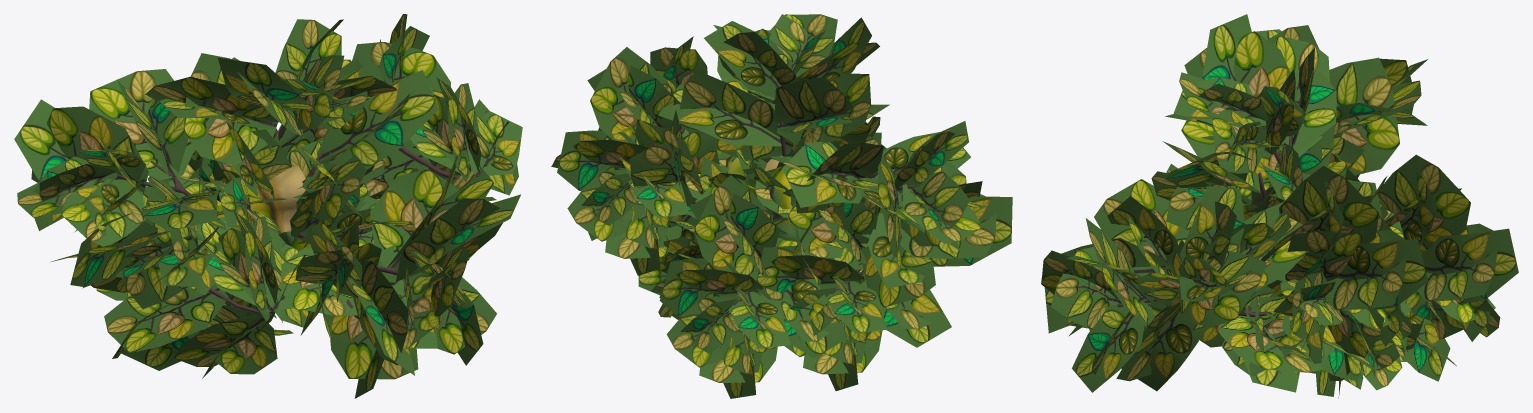
Rendered from shrub.glb.
3 views of the same model, side by side, from view 1: azimuth 30°, elevation 25°; view 2: azimuth 150°, elevation 25°; view 3: azimuth 270°, elevation 25° (orthographic). The views are drawn at different scales.
Parts seen in each view (by area): view 1: BIG FOLLIAGE.013_leaves_0, BIG FOLLIAGE.013_branch_0; view 2: BIG FOLLIAGE.013_leaves_0; view 3: BIG FOLLIAGE.013_leaves_0, BIG FOLLIAGE.013_branch_0.
Part boxes in pixels (box(x1,y1,x2,y2)): BIG FOLLIAGE.013_leaves_0: box(14, 14, 522, 398); BIG FOLLIAGE.013_branch_0: box(117, 121, 479, 331); BIG FOLLIAGE.013_leaves_0: box(551, 14, 1012, 398); BIG FOLLIAGE.013_leaves_0: box(1041, 14, 1518, 398); BIG FOLLIAGE.013_branch_0: box(1117, 125, 1291, 316).
Bounding box in the file's own units: 1.35 × 1 × 1.24.
2 materials, 1 textured.
